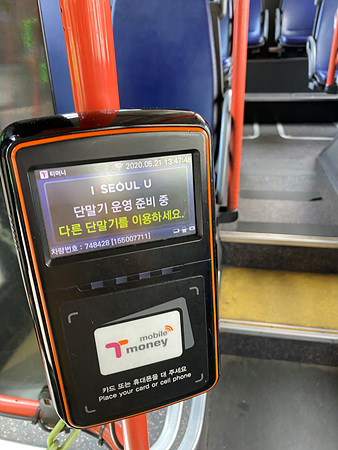terminal: (9, 121, 218, 411)
